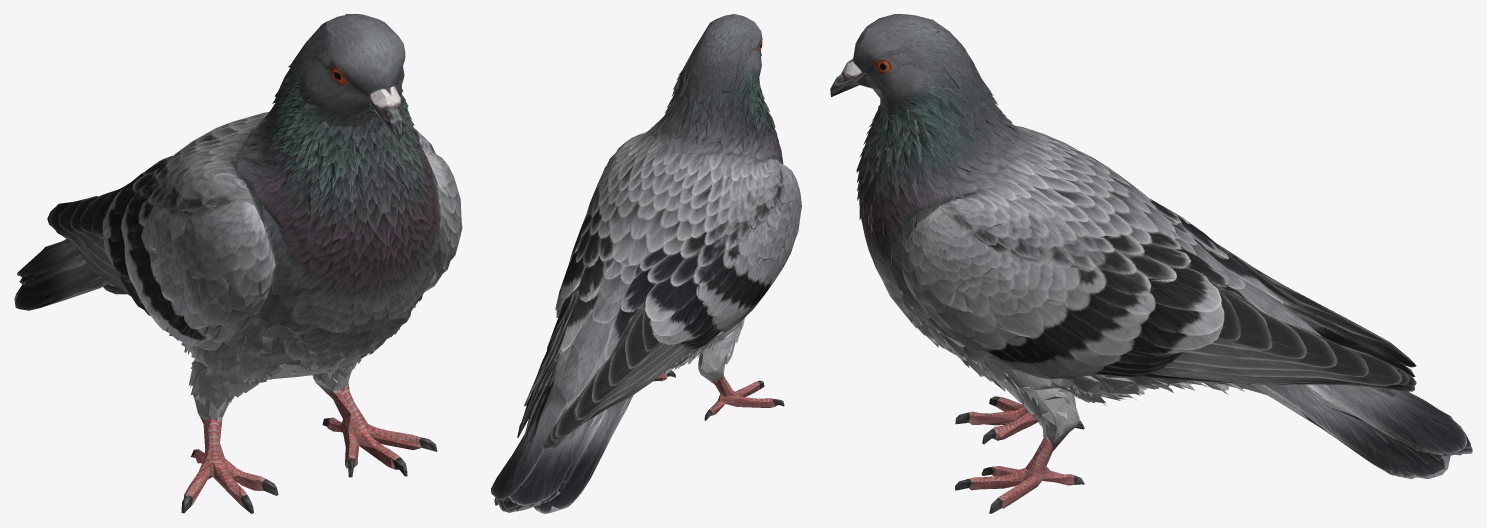
File: pigeon.glb
3 views of the same model, side by side, from view 1: azimuth 30°, elevation 25°; view 2: azimuth 150°, elevation 25°; view 3: azimuth 270°, elevation 25° (orthographic). The views are drawn at different scales.
Parts seen in each view (by area): view 1: output_unwrapped; view 2: output_unwrapped; view 3: output_unwrapped.
Part boxes in pixels (bbox=[...]): output_unwrapped: bbox=[14, 14, 462, 513]; output_unwrapped: bbox=[491, 14, 801, 513]; output_unwrapped: bbox=[830, 14, 1472, 513].
Size of the model in its own units: 0.1608 by 0.3 by 0.3946.
1 material, 1 textured.
